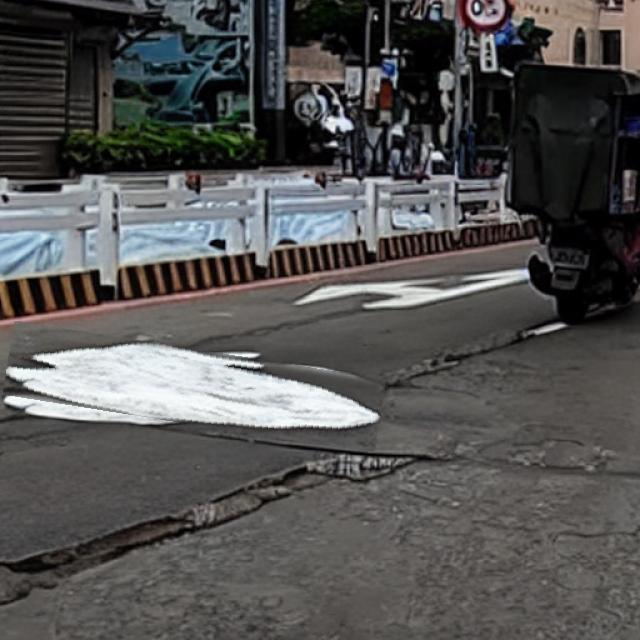puddle: (5, 336, 386, 440)
